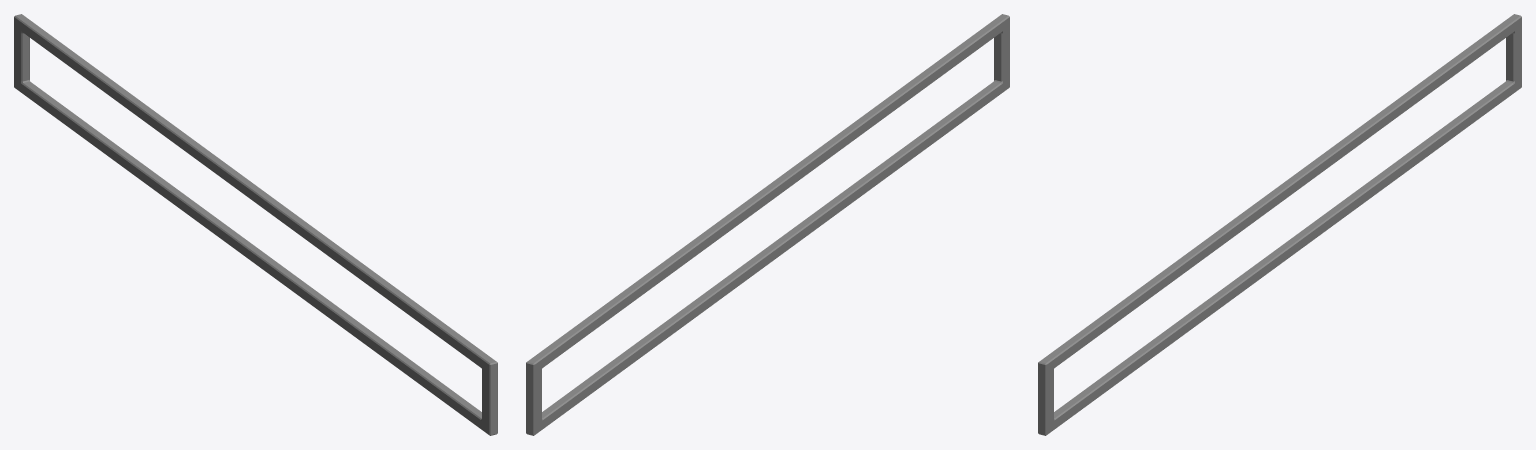
Rendered from SM_Props.fbx.
3 views of the same model, side by side, from view 1: azimuth 30°, elevation 25°; view 2: azimuth 150°, elevation 25°; view 3: azimuth 330°, elevation 25° (orthographic).
Visible parts, largest first — view 1: SM_Props; view 2: SM_Props; view 3: SM_Props.
Part boxes in pixels (left/top/right/bottom): SM_Props: left=14, top=14, right=497, bottom=435; SM_Props: left=526, top=14, right=1009, bottom=435; SM_Props: left=1038, top=14, right=1521, bottom=435.
Bounding box in the file's own units: 2.72 × 256 × 21.54.
1 material, 1 textured.
